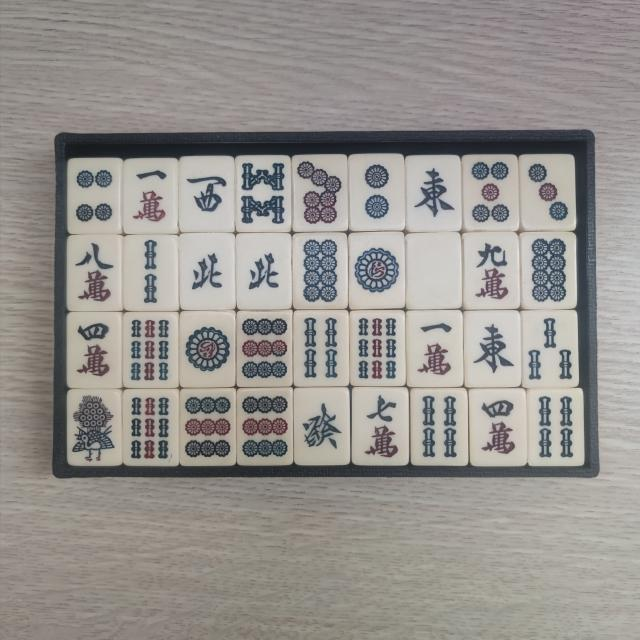hdg: (299, 396, 345, 462)
hdw: (412, 239, 457, 304)
hwe: (469, 318, 516, 383), (411, 159, 456, 226)
hwn: (186, 239, 232, 304), (239, 240, 284, 304)
hww: (186, 163, 230, 227)
sb1: (70, 394, 120, 464)
sb2: (128, 237, 174, 306)
sb3: (528, 316, 576, 384)
sb4: (418, 393, 464, 462), (299, 316, 344, 384), (534, 393, 578, 462)
sb8: (238, 159, 287, 228)
sb9: (128, 393, 173, 462), (128, 316, 172, 384), (356, 316, 400, 384)
sc1: (127, 164, 172, 229), (412, 318, 457, 382)
sc4: (476, 396, 522, 460), (72, 318, 115, 384)
sc7: (359, 394, 404, 462)
sc8: (73, 241, 119, 307)
sc9: (468, 238, 514, 304)
sd1: (353, 240, 403, 306), (184, 317, 233, 383)
sd2: (356, 158, 402, 226)
sd3: (526, 160, 572, 227)
sd4: (74, 162, 118, 227)
sd5: (468, 159, 514, 228)
sd7: (296, 158, 344, 228)
sd8: (298, 237, 344, 305), (528, 237, 572, 306)
sd9: (184, 393, 234, 463), (240, 393, 290, 461), (240, 316, 290, 384)
